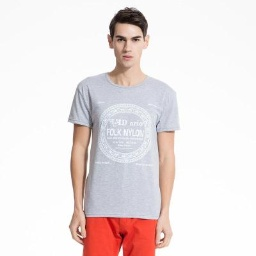face: (108, 5, 151, 70)
